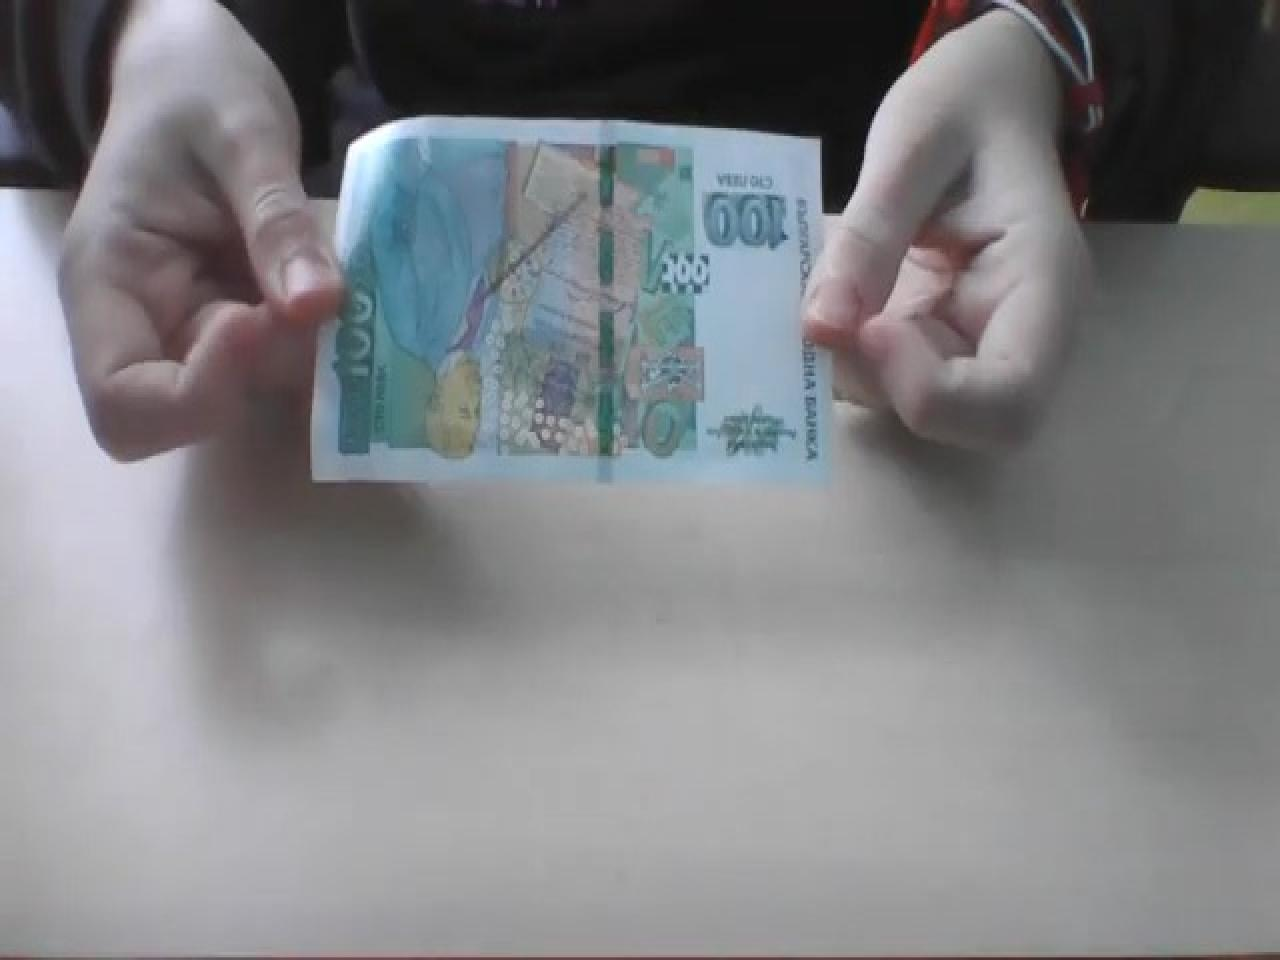100leva: (308, 112, 833, 488), (700, 187, 790, 250)
